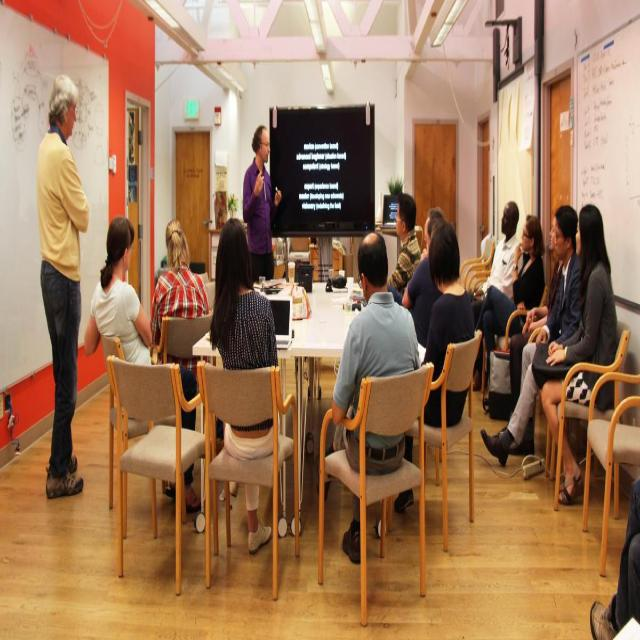body: (311, 227, 422, 568), (82, 211, 205, 516), (478, 203, 590, 472), (529, 202, 620, 508), (391, 218, 476, 515), (209, 214, 282, 558), (35, 72, 90, 502), (495, 204, 574, 441), (146, 216, 210, 488), (462, 197, 528, 396), (474, 212, 546, 393), (589, 477, 640, 639), (401, 204, 446, 370), (241, 123, 282, 286), (385, 191, 422, 306)
